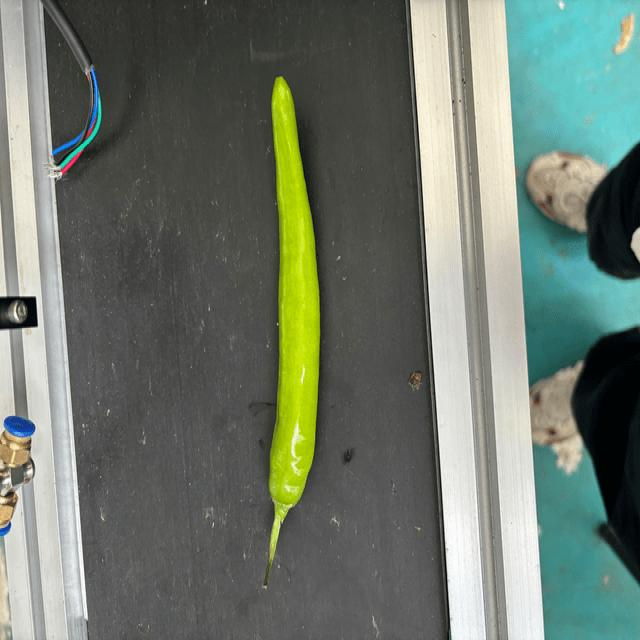chili: (267, 73, 323, 516)
